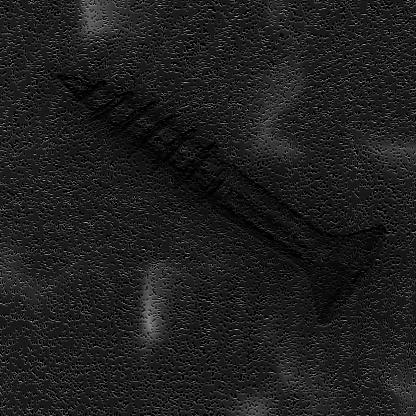metal: (56, 70, 388, 324)
